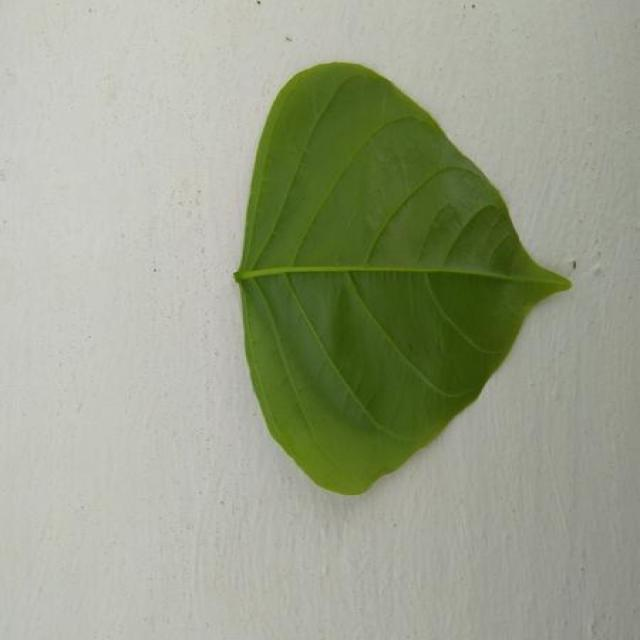honge: (235, 62, 570, 494)
